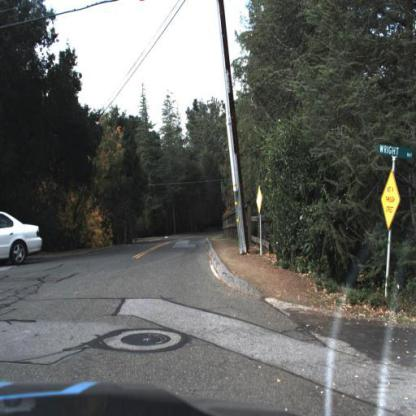car: (1, 210, 44, 267)
